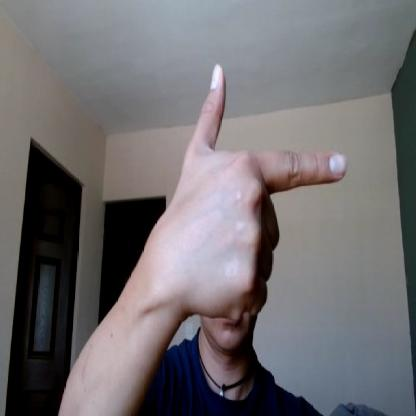G: (179, 64, 348, 314)
